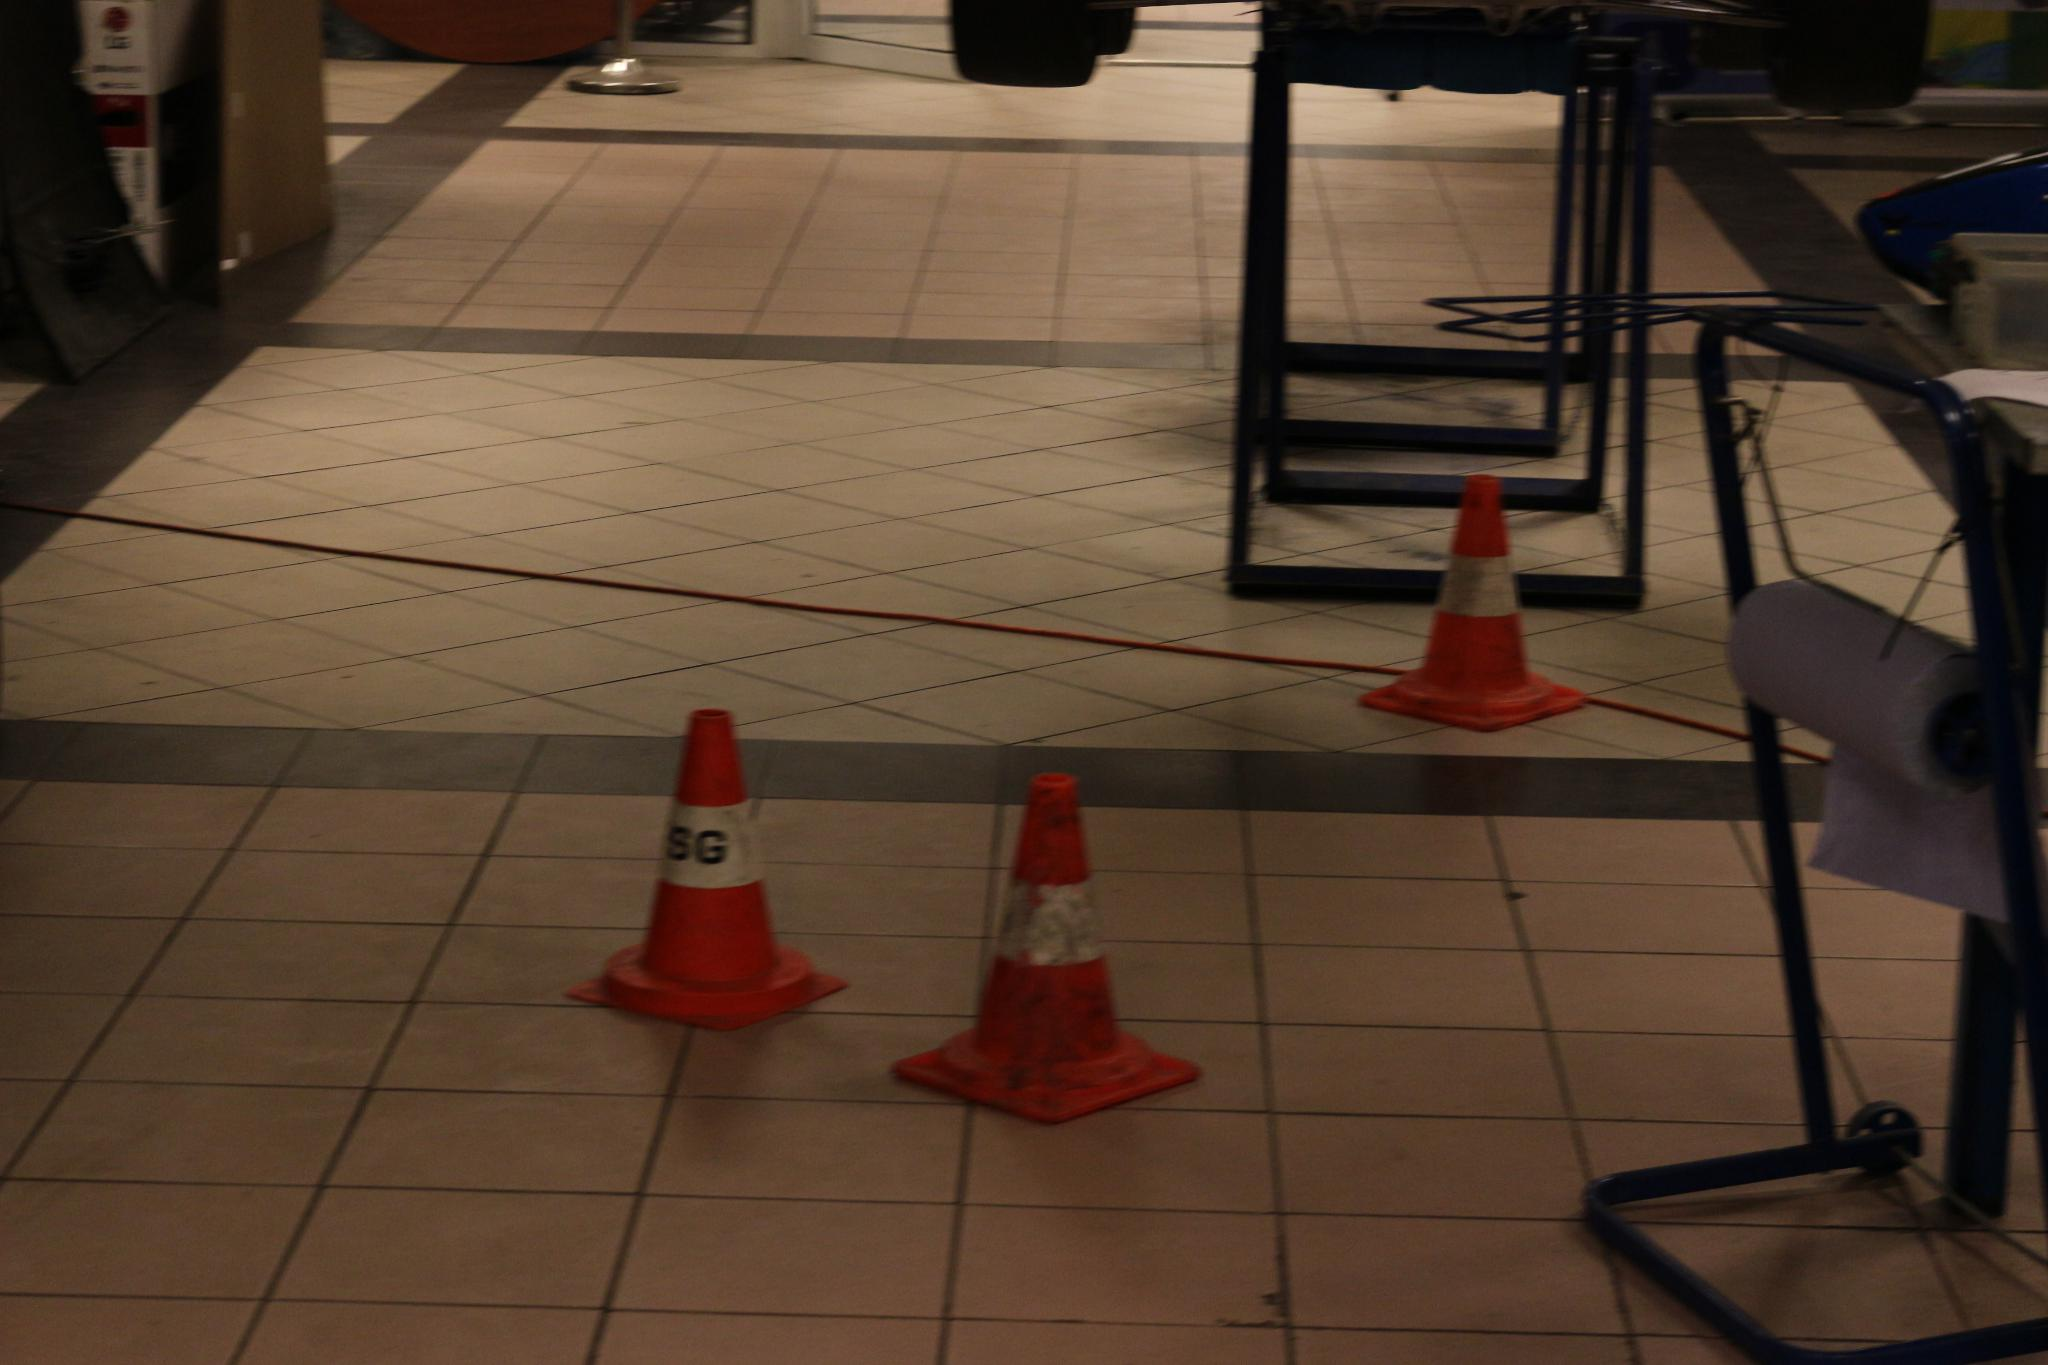Orange_Cone: (880, 768, 1203, 1117), (566, 693, 837, 1030), (1355, 468, 1579, 737)
